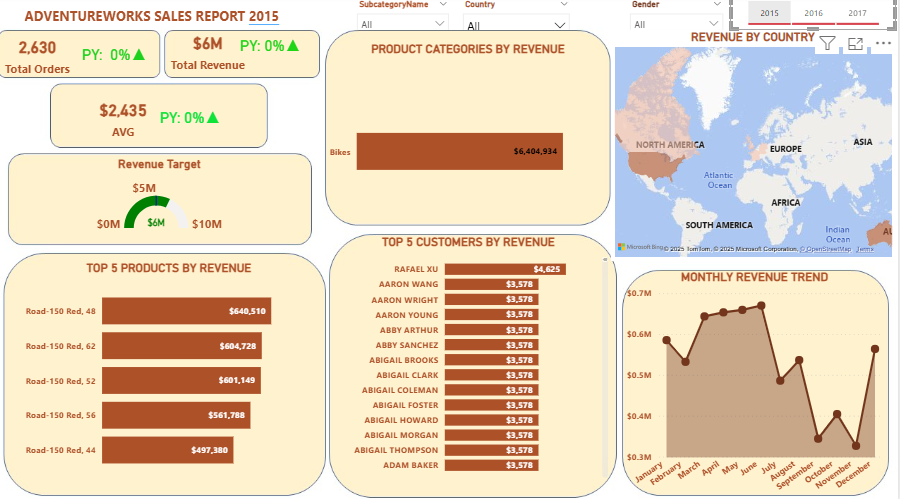

The page's visual inventory and layout, read from the dashboard file:
{"tool":"powerbi","page":{"name":"SALES REPORT","canvas":[1280,720],"ordinal":3},"visuals":[{"type":"card","fields":{"Values":["DAX MEASURES.Total Orders"]},"box":[0,48.2,123.3,68],"z":0},{"type":"card","fields":{"Values":["AdventureWorks _Sales.Orders Growth %"]},"box":[106.3,48.2,129,68],"z":1000},{"type":"card","fields":{"Values":["DAX MEASURES.Total Revenue"]},"box":[243.8,36.9,119.1,79.4],"z":2000},{"type":"card","fields":{"Values":["AdventureWorks _Sales.Reveue Growth%"]},"box":[326,48.2,131.8,42.5],"z":3000},{"type":"card","fields":{"Values":["AdventureWorks _Sales.AVG Growth %"]},"box":[219.7,136.1,117.6,72.3],"z":4000},{"type":"card","fields":{"Values":["DAX MEASURES.AVG"]},"box":[122.8,116.5,120.3,111.4],"z":5000},{"type":"slicer","fields":{"Values":["Calendar.Year"]},"box":[1043.1,0,235.3,48.2],"z":6000},{"type":"gauge","title":" Revenue Target","fields":{"Y":["DAX MEASURES.Total Revenue"],"MaxValue":["DAX MEASURES.Rev Max"],"TargetValue":["DAX MEASURES.Rev Target"]},"box":[58.1,228.2,352.9,110.6],"z":7000},{"type":"clusteredBarChart","title":"TOP 5 PRODUCTS  BY REVENUE","fields":{"Y":["DAX MEASURES.Total Revenue"],"Category":["AdventureWorks_Products - AdventureWorks_Products.ProductName"]},"box":[38.3,375.6,419.5,313.2],"z":8000},{"type":"clusteredBarChart","title":"TOP 5 CUSTOMERS  BY REVENUE","fields":{"Y":["DAX MEASURES.Total Revenue"],"Category":["AdventureWorks_Customers - AdventureWorks_Customers (1).Full name"]},"box":[468.7,339.3,406.5,349.4],"z":9000},{"type":"clusteredBarChart","title":"PRODUCT CATEGORIES  BY REVENUE","fields":{"Y":["DAX MEASURES.Total Revenue"],"Category":["AdventureWorks_Product_Categories - AdventureWorks_Product_Categories.Category Name","AdventureWorks_Product_Subcategory - AdventureWorks_Product_Subcategory.SubcategoryName"]},"box":[469.1,65.2,405.4,286.3],"z":10000},{"type":"areaChart","title":" MONTHLY REVENUE TREND","fields":{"Category":["Calendar.month"],"Y":["DAX MEASURES.Total Revenue"]},"box":[892,388,372.9,332.6],"z":11000},{"type":"slicer","fields":{"Values":["AdventureWorks_Territories - AdventureWorks_Territories.Country"]},"box":[654.8,0,171.5,48.2],"z":12000},{"type":"slicer","fields":{"Values":["AdventureWorks_Customers - AdventureWorks_Customers (1).Gender"]},"box":[891.5,0,151.7,48.2],"z":13000},{"type":"slicer","fields":{"Values":["AdventureWorks_Product_Subcategory - AdventureWorks_Product_Subcategory.SubcategoryName"]},"box":[504.6,0,150.2,48.2],"z":14000},{"type":"textbox","box":[38.3,9.9,447.9,38.3],"z":15000},{"type":"filledMap","title":" REVENUE BY COUNTRY","fields":{"Category":["AdventureWorks_Territories - AdventureWorks_Territories.Country"]},"box":[874.5,48.2,402.5,327.4],"z":16000}]}

Visuals, with their boxes in screenshot pixels (x1, y1, x2, y2), scaled from the page's 1280x720 canvas onto the 900x499 screenshot:
card - DAX MEASURES.Total Orders: BBox(0, 33, 87, 81)
card - AdventureWorks _Sales.Orders Growth %: BBox(75, 33, 165, 81)
card - DAX MEASURES.Total Revenue: BBox(171, 26, 255, 81)
card - AdventureWorks _Sales.Reveue Growth%: BBox(229, 33, 322, 63)
card - AdventureWorks _Sales.AVG Growth %: BBox(154, 94, 237, 144)
card - DAX MEASURES.AVG: BBox(86, 81, 171, 158)
slicer - Calendar.Year: BBox(733, 0, 899, 33)
" Revenue Target" gauge: BBox(41, 158, 289, 235)
"TOP 5 PRODUCTS  BY REVENUE" clusteredBarChart: BBox(27, 260, 322, 477)
"TOP 5 CUSTOMERS  BY REVENUE" clusteredBarChart: BBox(330, 235, 615, 477)
"PRODUCT CATEGORIES  BY REVENUE" clusteredBarChart: BBox(330, 45, 615, 244)
" MONTHLY REVENUE TREND" areaChart: BBox(627, 269, 889, 498)
slicer - AdventureWorks_Territories - AdventureWorks_Territories.Country: BBox(460, 0, 581, 33)
slicer - AdventureWorks_Customers - AdventureWorks_Customers (1).Gender: BBox(627, 0, 734, 33)
slicer - AdventureWorks_Product_Subcategory - AdventureWorks_Product_Subcategory.SubcategoryName: BBox(355, 0, 460, 33)
textbox: BBox(27, 7, 342, 33)
" REVENUE BY COUNTRY" filledMap: BBox(615, 33, 898, 260)
